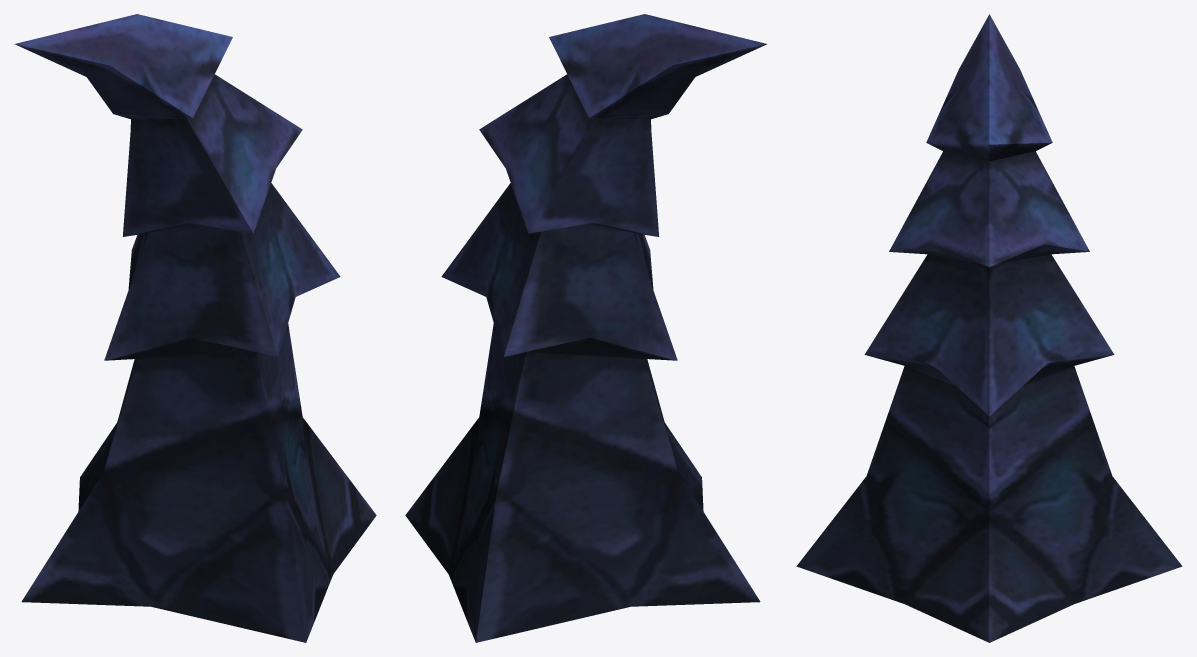
The model's file is palace_floorspikes_02.fbx.
3 renders of one model, left to right at view 1: azimuth 30°, elevation 25°; view 2: azimuth 150°, elevation 25°; view 3: azimuth 270°, elevation 25°, orthographic. The views are drawn at different scales.
Visible parts, largest first — view 1: palace_floorspikes_02; view 2: palace_floorspikes_02; view 3: palace_floorspikes_02.
Boxes of the visible parts, x1=… form: palace_floorspikes_02: x1=14, y1=14, x2=376, y2=642; palace_floorspikes_02: x1=405, y1=14, x2=767, y2=642; palace_floorspikes_02: x1=796, y1=14, x2=1182, y2=642.
Size of the model in its own units: 2.19 by 3.23 by 2.36.
